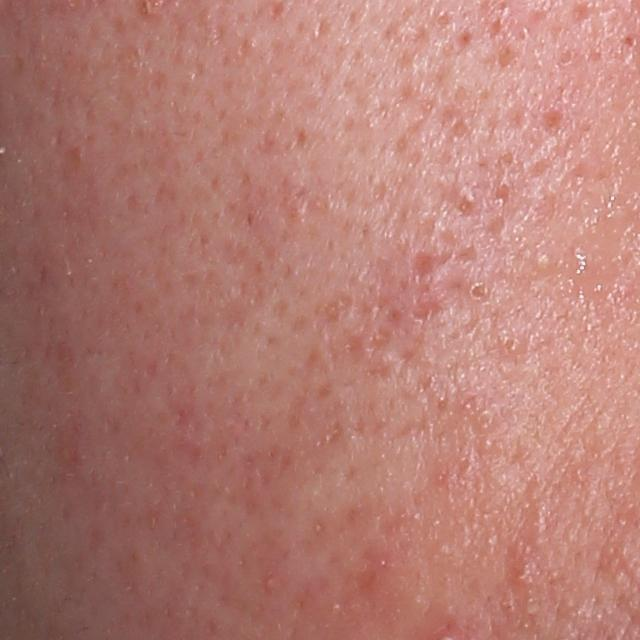atrophic_scar: (410, 249, 434, 284)
comedo: (469, 405, 504, 433), (499, 331, 526, 355), (530, 250, 554, 273), (469, 279, 490, 299)
